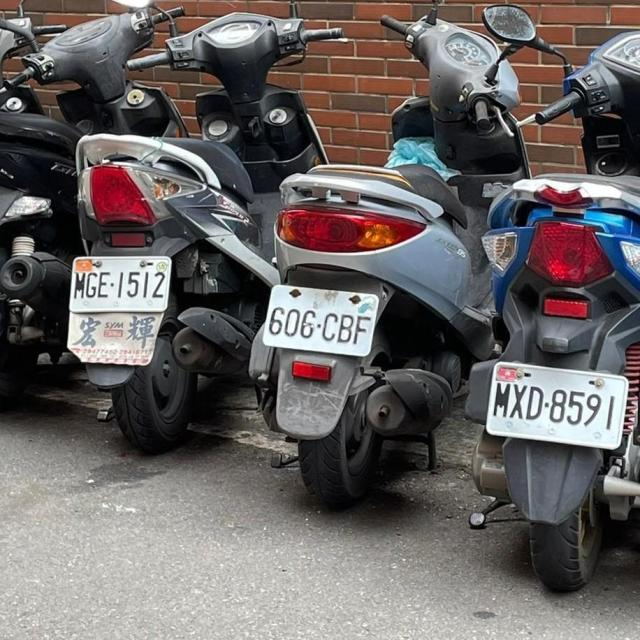W: (479, 354, 638, 454), (256, 281, 382, 361), (66, 253, 176, 316)
